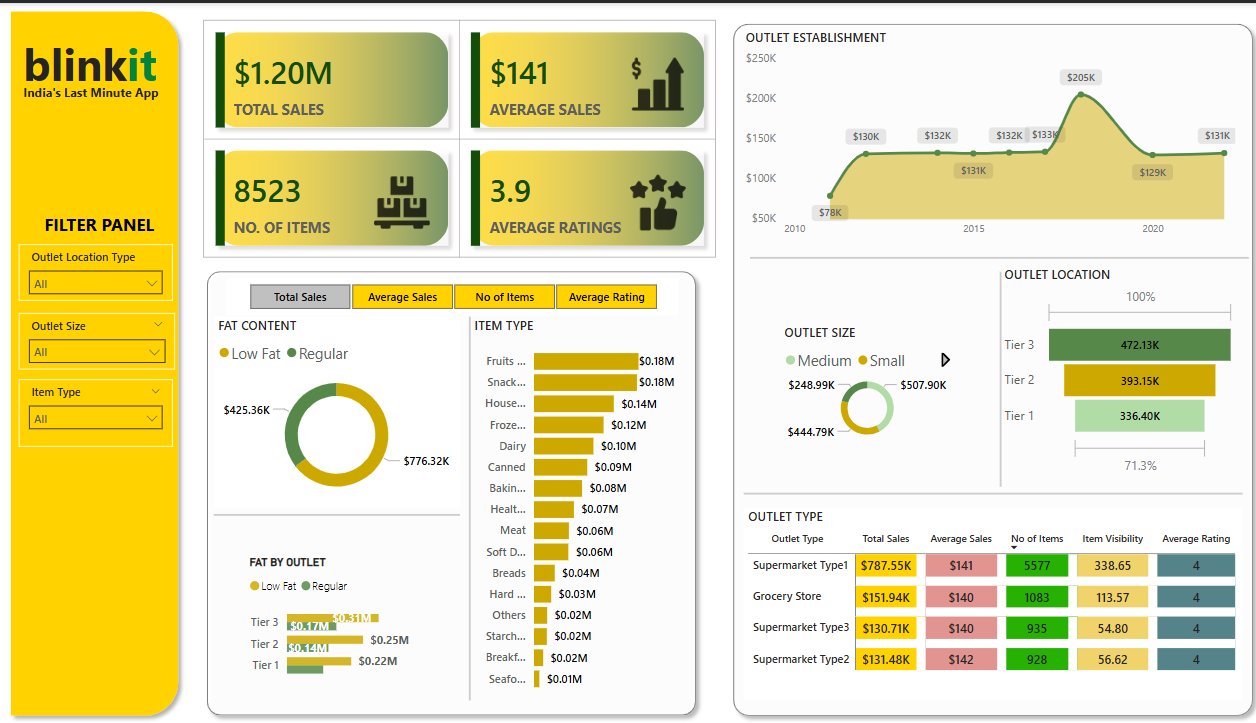

Layout of this report page (visuals, bound fields, positions):
{"tool":"powerbi","page":{"name":"Page 1","canvas":[1400,800],"ordinal":0},"visuals":[{"type":"shape","box":[13.5,0,201.1,786.5],"z":0},{"type":"textbox","box":[31.5,28.5,168.1,85.5],"z":1000},{"type":"textbox","box":[31.5,82.5,171.1,42],"z":2000},{"type":"cardVisual","fields":{"Data":["BlinkIT Grocery Data.Total Sales","BlinkIT Grocery Data.Average Sales","BlinkIT Grocery Data.No of Items","BlinkIT Grocery Data.Average Rating"]},"box":[228.1,13.5,570.3,270.2],"z":3000},{"type":"shape","box":[228.1,283.7,550.8,502.8],"z":4000},{"type":"donutChart","title":"FAT CONTENT","fields":{"Y":["BlinkIT Grocery Data.Total Sales"],"Category":["BlinkIT Grocery Data.Item Fat Content"]},"box":[244,342.2,268.6,208.6],"z":5000},{"type":"slicer","fields":{"Values":["Metrics.Metrics"]},"box":[258.1,300.2,493.8,40.5],"z":6000},{"type":"slicer","fields":{"Values":["BlinkIT Grocery Data.Outlet Location Type"]},"box":[31.4,263.1,167.7,61.4],"z":7000},{"type":"clusteredBarChart","title":"FAT BY OUTLET","fields":{"Y":["BlinkIT Grocery Data.Total Sales"],"Category":["BlinkIT Grocery Data.Outlet Location Type"],"Series":["BlinkIT Grocery Data.Item Fat Content"]},"box":[278.1,602.6,196.3,144.5],"z":8000},{"type":"shape","box":[244,550.8,268.6,15],"z":9000},{"type":"shape","box":[472.8,342.2,100.6,418.7],"z":10000},{"type":"barChart","title":"ITEM TYPE","fields":{"Y":["BlinkIT Grocery Data.Total Sales"],"Category":["BlinkIT Grocery Data.Item Type"]},"box":[523.8,342.2,228.1,418.7],"z":11000},{"type":"shape","box":[801.6,13.6,584.9,773],"z":12000},{"type":"lineChart","title":"OUTLET ESTABLISHMENT","fields":{"Category":["BlinkIT Grocery Data.Outlet Establishment Year"],"Y":["BlinkIT Grocery Data.Total Sales"]},"box":[819.4,28.6,544,234.5],"z":13000},{"type":"shape","box":[828.9,263.1,544,30],"z":14000},{"type":"donutChart","title":"OUTLET SIZE","fields":{"Y":["BlinkIT Grocery Data.Total Sales"],"Category":["BlinkIT Grocery Data.Outlet Size"]},"box":[861.6,350.4,190.9,133.6],"z":15000},{"type":"shape","box":[1092,293.1,20.5,234.5],"z":16000},{"type":"funnel","title":"OUTLET LOCATION","fields":{"Y":["Sum(BlinkIT Grocery Data.Sales)"],"Category":["BlinkIT Grocery Data.Outlet Location Type"]},"box":[1101.6,286.3,261.8,233.1],"z":17000},{"type":"shape","box":[822.1,527.6,544,15],"z":18000},{"type":"pivotTable","title":"OUTLET TYPE","fields":{"Rows":["BlinkIT Grocery Data.Outlet Type"],"Values":["BlinkIT Grocery Data.Total Sales","BlinkIT Grocery Data.Average Sales","BlinkIT Grocery Data.No of Items","Sum(BlinkIT Grocery Data.Item Visibility)","BlinkIT Grocery Data.Average Rating"]},"box":[822.1,550.8,544,210],"z":19000},{"type":"slicer","fields":{"Values":["BlinkIT Grocery Data.Item Type"]},"box":[31.4,410.4,167.7,73.6],"z":20000},{"type":"slicer","fields":{"Values":["BlinkIT Grocery Data.Outlet Size"]},"box":[31.4,338.1,170.4,61.4],"z":21000},{"type":"textbox","box":[0,229,238.6,49.1],"z":22000}]}

Visuals, with their boxes in screenshot pixels (x1, y1, x2, y2), scaled from the page's 1400x800 canvas onto the 1256x723 screenshot:
shape: left=12, top=0, right=193, bottom=711
textbox: left=28, top=26, right=179, bottom=103
textbox: left=28, top=75, right=182, bottom=113
cardVisual - BlinkIT Grocery Data.Total Sales x BlinkIT Grocery Data.Average Sales: left=205, top=12, right=716, bottom=256
shape: left=205, top=256, right=699, bottom=711
"FAT CONTENT" donutChart: left=219, top=309, right=460, bottom=498
slicer - Metrics.Metrics: left=232, top=271, right=675, bottom=308
slicer - BlinkIT Grocery Data.Outlet Location Type: left=28, top=238, right=179, bottom=293
"FAT BY OUTLET" clusteredBarChart: left=249, top=545, right=426, bottom=675
shape: left=219, top=498, right=460, bottom=511
shape: left=424, top=309, right=514, bottom=688
"ITEM TYPE" barChart: left=470, top=309, right=675, bottom=688
shape: left=719, top=12, right=1244, bottom=711
"OUTLET ESTABLISHMENT" lineChart: left=735, top=26, right=1223, bottom=238
shape: left=744, top=238, right=1232, bottom=265
"OUTLET SIZE" donutChart: left=773, top=317, right=944, bottom=437
shape: left=980, top=265, right=998, bottom=477
"OUTLET LOCATION" funnel: left=988, top=259, right=1223, bottom=469
shape: left=738, top=477, right=1226, bottom=490
"OUTLET TYPE" pivotTable: left=738, top=498, right=1226, bottom=688
slicer - BlinkIT Grocery Data.Item Type: left=28, top=371, right=179, bottom=437
slicer - BlinkIT Grocery Data.Outlet Size: left=28, top=306, right=181, bottom=361
textbox: left=0, top=207, right=214, bottom=251
